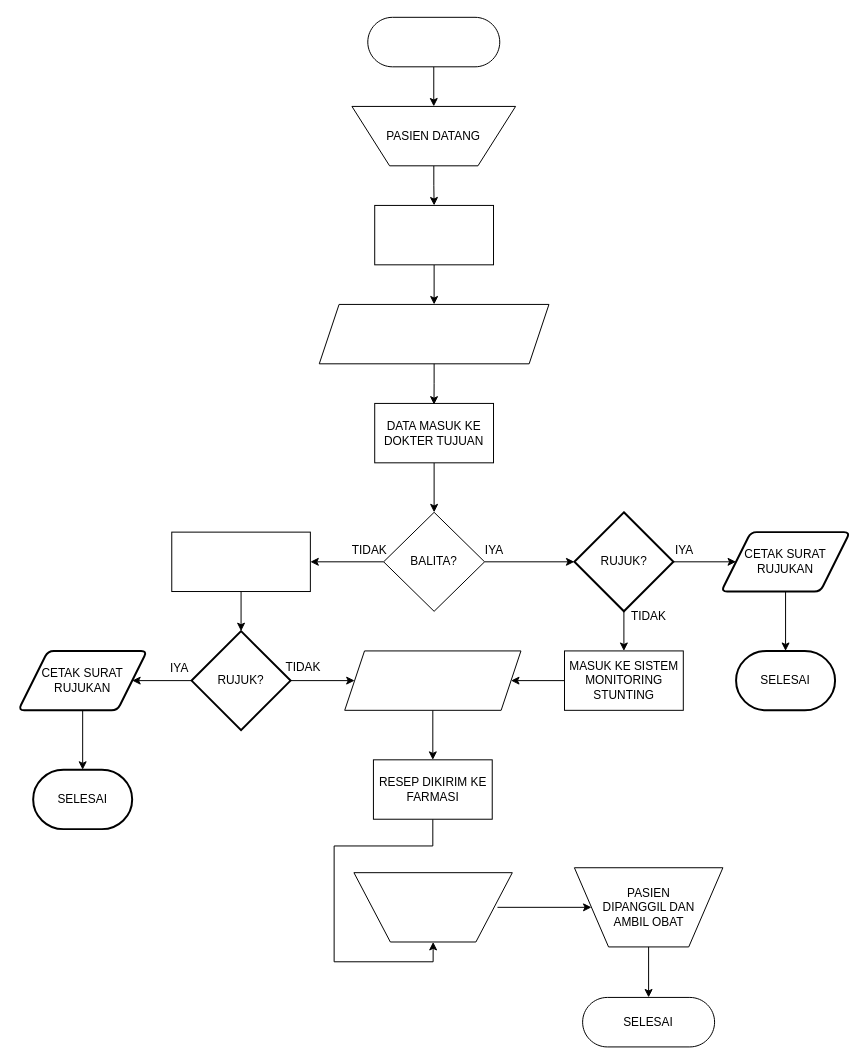
This 867x1064 diagram has some shape labels left out. The shapes that lost their labels are listed below. From the top down, each one's centre as x and y in pixels, then its label:
(433,41): MULAI
(434,234): AMBIL ANTRIAN
(433,333): ADMIN INPUT DATA NIK, NAMA PANJANG, KELUHAN, DOKTER
(240,561): MASUK KE DATABASE DAN DIREKAP UNTUK RIWAYAT MEDIS
(432,680): DOKTER INPUT RESEP DOKTER & EDUKASI
(432,907): PASIEN KE KASIR DAN BAYAR LALU MENDAPAT ANTRIAN OBAT
